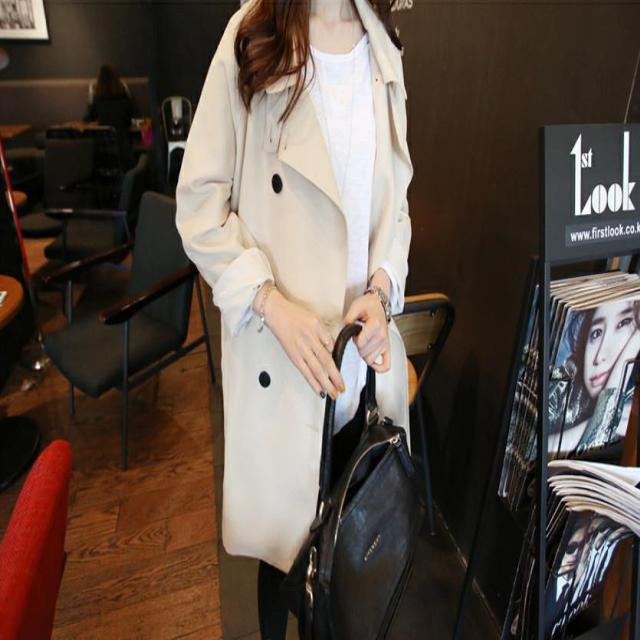long-sleeve-outwear: (167, 9, 428, 570)
